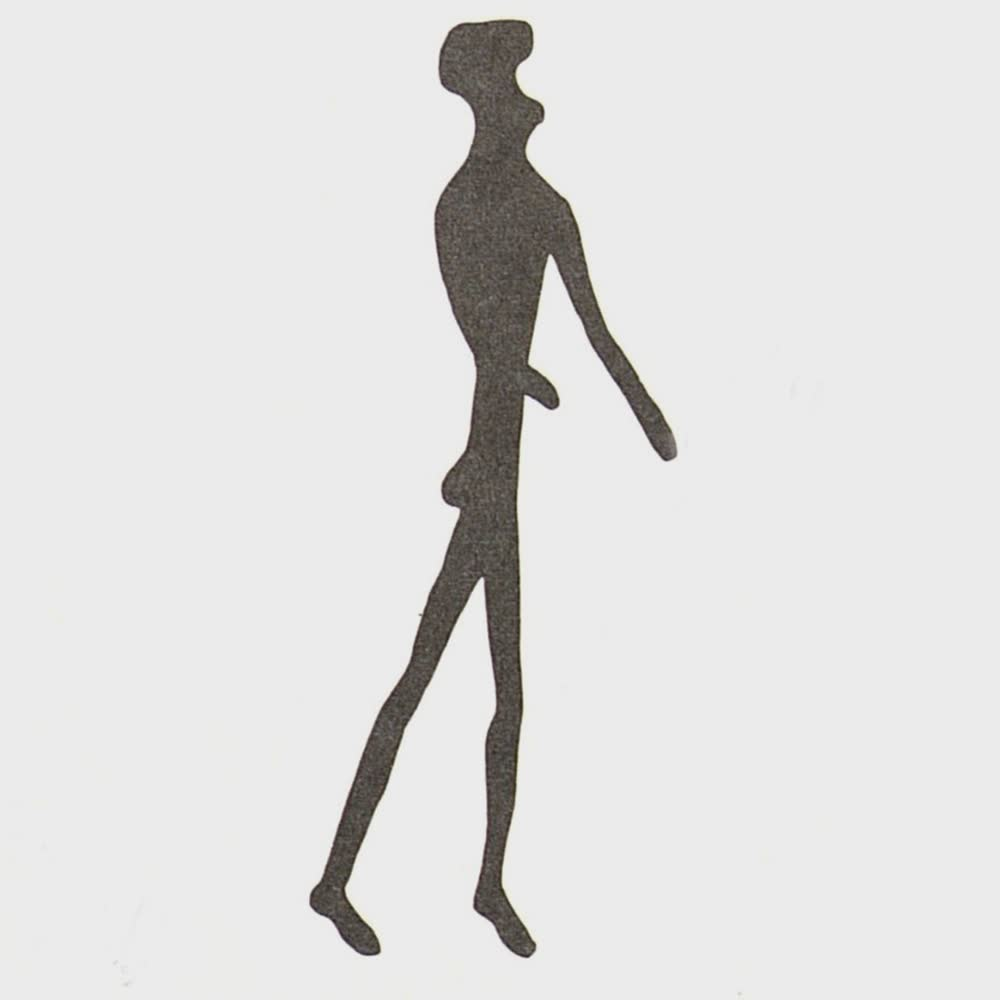man: (308, 16, 686, 961)
